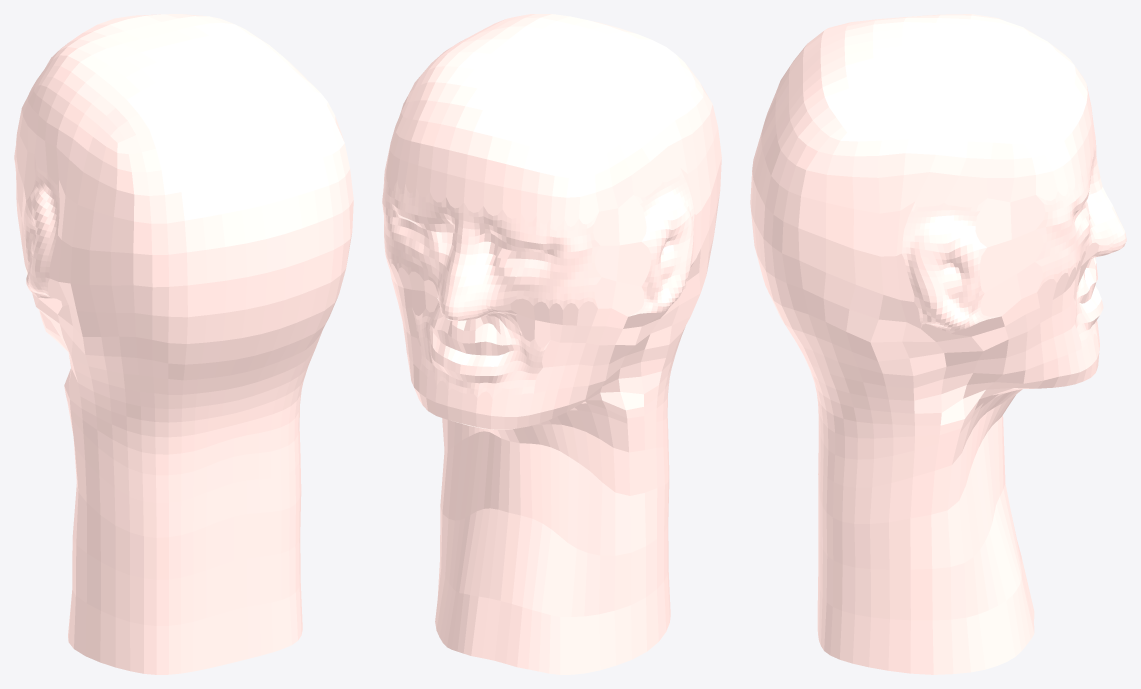
File: npc_1_head.gltf
The picture shows the model from 3 angles, left to right: view 1: azimuth 30°, elevation 25°; view 2: azimuth 150°, elevation 25°; view 3: azimuth 270°, elevation 25°; orthographic projection.
Parts seen in each view (by area): view 1: head; view 2: head; view 3: head.
Boxes of the visible parts, x1,y1,x2,y2 form: head: [14, 14, 353, 674]; head: [382, 14, 721, 674]; head: [750, 14, 1126, 674].
Size of the model in its own units: 0.1582 by 0.3089 by 0.1778.
